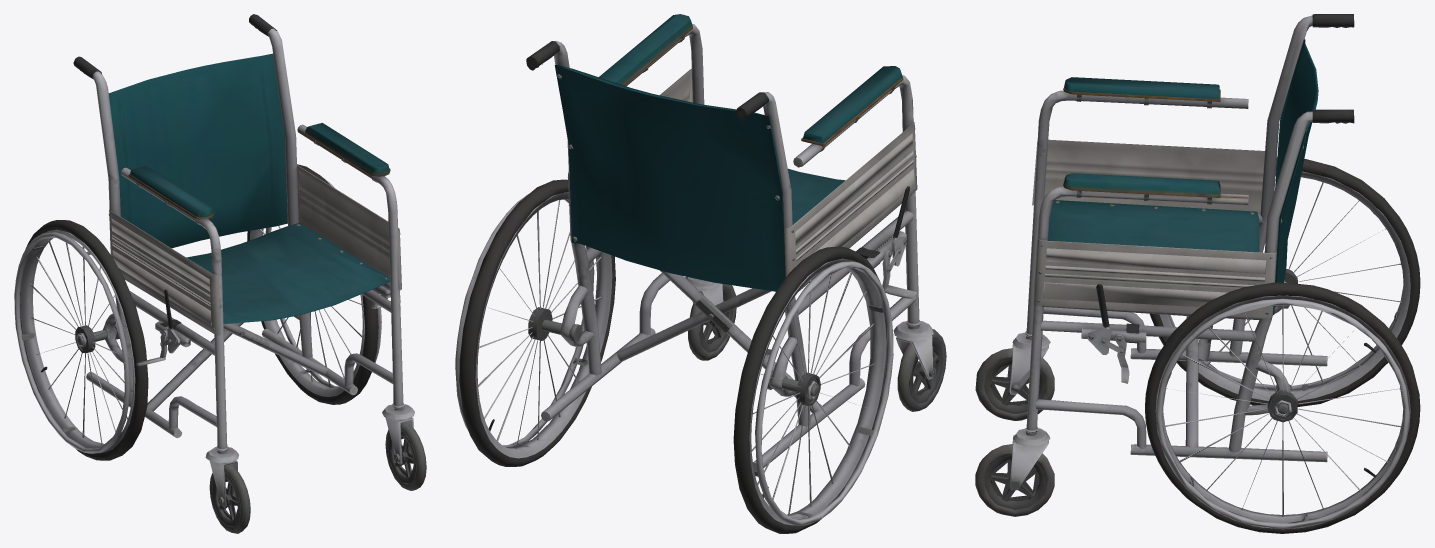
Rendered from wheelchair_01.glb.
3 renders of one model, left to right at view 1: azimuth 30°, elevation 25°; view 2: azimuth 150°, elevation 25°; view 3: azimuth 270°, elevation 25°, orthographic. The views are drawn at different scales.
Parts seen in each view (by area): view 1: wheelchair_01; view 2: wheelchair_01; view 3: wheelchair_01.
Part boxes in pixels (x1,y1,x2,y2): wheelchair_01: (14, 14, 426, 533); wheelchair_01: (455, 14, 946, 533); wheelchair_01: (975, 14, 1420, 533).
Size of the model in its own units: 0.8241 by 1.1 by 1.09.
1 material, 1 textured.
